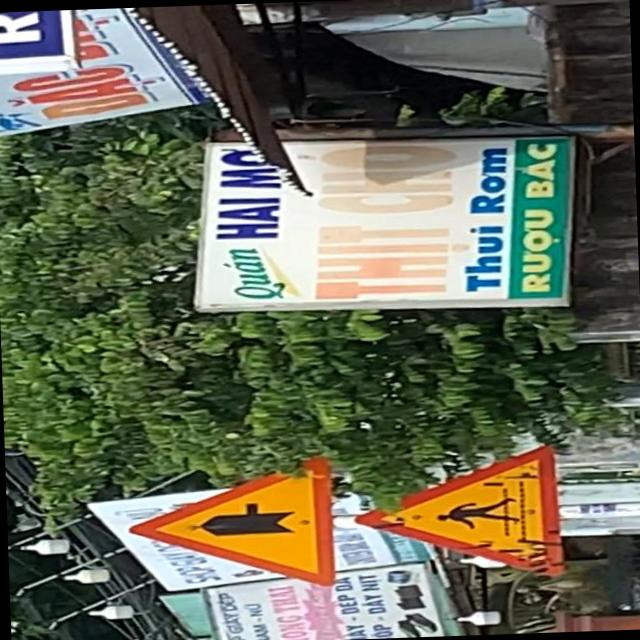W-207b: (122, 454, 334, 594)
W-224: (349, 446, 567, 582)
